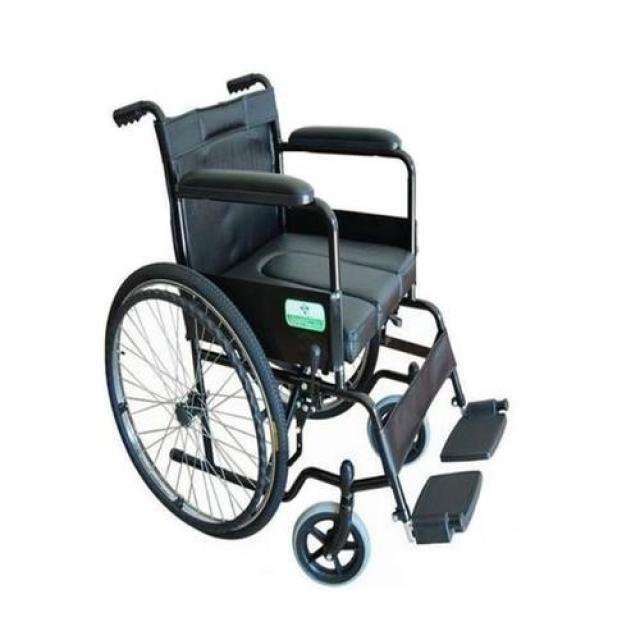wheelchairs: (83, 65, 570, 591)
